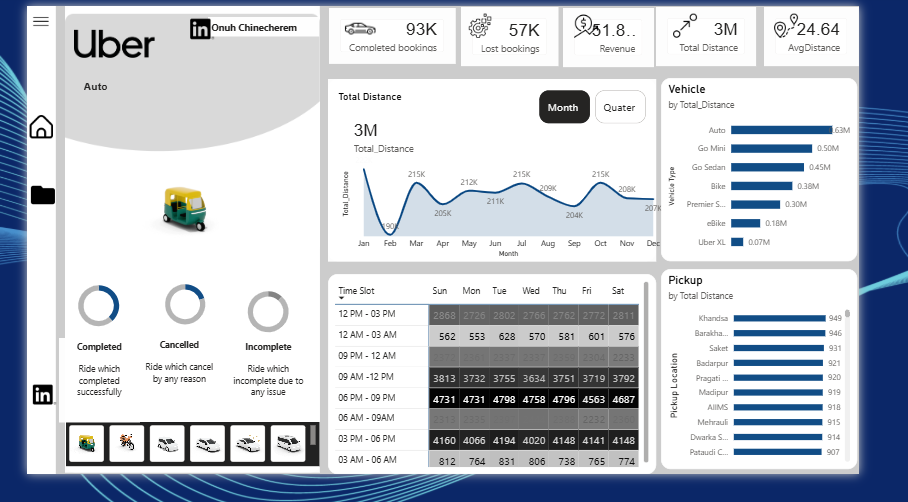

The dashboard page shown, as its layout file describes it:
{"tool":"powerbi","page":{"name":"Overview","canvas":[1280,720],"ordinal":1},"visuals":[{"type":"shape","box":[463.5,112,504.6,280.6],"z":0},{"type":"shape","box":[463.5,405.4,504.6,309],"z":1000},{"type":"shape","box":[59,0,392.3,717.9],"z":2000},{"type":"image","box":[58.6,0,391.9,391.9],"z":3000},{"type":"shape","box":[0,0,43.9,720],"z":4000},{"type":"cardVisual","fields":{"Data":["_Measure.Total_Distance"]},"box":[980,2.9,150,90],"z":5000},{"type":"lineChart","fields":{"Category":["Calendar.Month"],"Y":["_Measure.Completed_bookings"]},"box":[463.5,199.8,504.6,181.4],"z":6000},{"type":"cardVisual","fields":{"Data":["_Measure.Lost_bookings"]},"box":[667.1,1.4,150,91.4],"z":7000},{"type":"cardVisual","fields":{"Data":["_Measure.Booking_value"]},"box":[827.1,0,148.6,91.4],"z":8000},{"type":"cardVisual","fields":{"Data":["_Measure.Avg_Distance"]},"box":[1133.9,1.4,146,90.7],"z":9000},{"type":"advancedSlicerVisual","fields":{"Values":["Veh_IMG.Column1"]},"box":[60.3,639.7,389.7,67.9],"z":10000},{"type":"cardVisual","fields":{"Data":["Min(Veh_IMG.Column2)"]},"box":[51.8,47.3,486.8,322.3],"z":11000},{"type":"image","box":[72.9,27.1,124.3,61.4],"z":12000},{"type":"cardVisual","fields":{"Data":["Min(Veh_IMG.Column1)"]},"box":[58.6,81.4,221.4,84.3],"z":13000},{"type":"cardVisual","fields":{"Data":["_Measure.Complete_booking"]},"box":[464.3,2.9,194.3,90],"z":14000},{"type":"columnChart","fields":{"Category":["Calendar.Month"],"Y":["_Measure.Completed_bookings"]},"box":[463.5,524.4,504.6,182.8],"z":15000},{"type":"advancedSlicerVisual","fields":{"Values":["Date Axis 2.Date Axis"]},"box":[800,122.9,158.6,62.9],"z":16000},{"type":"advancedSlicerVisual","fields":{"Values":["Date Axis 2.Date Axis"]},"box":[796.5,420.9,163,55.3],"z":17000},{"type":"cardVisual","fields":{"Data":["_Measure.Complete_booking"]},"box":[472.9,124.3,194.3,102.9],"z":18000},{"type":"cardVisual","fields":{"Data":["_Measure.Booking_value"]},"box":[462.9,421.4,162.9,90],"z":19000},{"type":"clusteredBarChart","fields":{"Y":["_Measure.Booking_value"],"Category":["uber.Vehicle Type"]},"box":[975.1,112,301.9,280.6],"z":20000},{"type":"multiRowCard","fields":{"Values":["uber.Pickup Location","_Measure.Completed_bookings"]},"box":[975.1,405.4,141.7,106.3],"z":21000},{"type":"multiRowCard","fields":{"Values":["uber.Drop Location","_Measure.Completed_bookings"]},"box":[1131,405.4,146,106.3],"z":22000},{"type":"image","box":[1226,442.2,53.9,32.6],"z":23000},{"type":"image","box":[1082.8,440.8,39.7,35.4],"z":24000},{"type":"shape","box":[976.5,524.4,300.5,92.1],"z":25000},{"type":"shape","box":[979.4,623.6,300.5,90.7],"z":26000},{"type":"cardVisual","fields":{"Data":["Avg(uber.Customer Rating)"]},"box":[993.5,528.7,184.3,85],"z":27000},{"type":"cardVisual","fields":{"Data":["Avg(uber.Driver Ratings)"]},"box":[993.5,630.7,174.3,85],"z":28000},{"type":"image","box":[829.1,24.1,38.3,36.9],"z":29000},{"type":"donutChart","fields":{"Y":["_Measure.Booking_count","_Measure.Bookings_Remove_status_Filter"]},"box":[59,410.3,103.7,100.8],"z":30000},{"type":"donutChart","fields":{"Y":["_Measure.Booking_count","_Measure.Bookings_Remove_status_Filter"]},"box":[190.1,408.9,105.1,99.3],"z":31000},{"type":"donutChart","fields":{"Y":["_Measure.Booking_count","_Measure.Bookings_Remove_status_Filter"]},"box":[318.2,420.4,105.1,100.8],"z":32000},{"type":"textbox","box":[49,511.1,123.8,129.6],"z":33000},{"type":"textbox","box":[172.8,508.3,123.8,109.4],"z":34000},{"type":"textbox","box":[309.6,511.1,123.8,120.9],"z":35000},{"type":"image","box":[993.5,10.1,37.4,38.9],"z":36000},{"type":"image","box":[1149,10.1,37.4,38.9],"z":37000},{"type":"image","box":[486.7,10.1,53.3,47.5],"z":38000},{"type":"image","box":[678.2,10.1,37.4,38.9],"z":39000},{"type":"image","box":[0,8.6,44.6,30.2],"z":40000},{"type":"textbox","box":[278.6,17.1,155.7,31.4],"z":41000},{"type":"image","box":[242.4,17,52.4,36.9],"z":42000},{"type":"image","box":[0,167,44.6,36],"z":43000},{"type":"image","box":[0,272.1,49,37.4],"z":44000},{"type":"image","box":[0,580.2,53.3,36],"z":45000}]}

Visuals, with their boxes on the page's 1280x720 design canvas (x1, y1, x2, y2). These are canvas units, not pixel positions in the 908x502 screenshot, which may show the page scaled, cropped or inside an application window:
shape: 464, 112, 968, 393
shape: 464, 405, 968, 714
shape: 59, 0, 451, 718
image: 59, 0, 450, 392
shape: 0, 0, 44, 720
cardVisual - _Measure.Total_Distance: 980, 3, 1130, 93
lineChart - Calendar.Month x _Measure.Completed_bookings: 464, 200, 968, 381
cardVisual - _Measure.Lost_bookings: 667, 1, 817, 93
cardVisual - _Measure.Booking_value: 827, 0, 976, 91
cardVisual - _Measure.Avg_Distance: 1134, 1, 1280, 92
advancedSlicerVisual - Veh_IMG.Column1: 60, 640, 450, 708
cardVisual - Min(Veh_IMG.Column2): 52, 47, 539, 370
image: 73, 27, 197, 88
cardVisual - Min(Veh_IMG.Column1): 59, 81, 280, 166
cardVisual - _Measure.Complete_booking: 464, 3, 659, 93
columnChart - Calendar.Month x _Measure.Completed_bookings: 464, 524, 968, 707
advancedSlicerVisual - Date Axis 2.Date Axis: 800, 123, 959, 186
advancedSlicerVisual - Date Axis 2.Date Axis: 796, 421, 960, 476
cardVisual - _Measure.Complete_booking: 473, 124, 667, 227
cardVisual - _Measure.Booking_value: 463, 421, 626, 511
clusteredBarChart - _Measure.Booking_value x uber.Vehicle Type: 975, 112, 1277, 393
multiRowCard - uber.Pickup Location x _Measure.Completed_bookings: 975, 405, 1117, 512
multiRowCard - uber.Drop Location x _Measure.Completed_bookings: 1131, 405, 1277, 512
image: 1226, 442, 1280, 475
image: 1083, 441, 1122, 476
shape: 976, 524, 1277, 616
shape: 979, 624, 1280, 714
cardVisual - Avg(uber.Customer Rating): 994, 529, 1178, 614
cardVisual - Avg(uber.Driver Ratings): 994, 631, 1168, 716
image: 829, 24, 867, 61
donutChart - _Measure.Booking_count x _Measure.Bookings_Remove_status_Filter: 59, 410, 163, 511
donutChart - _Measure.Booking_count x _Measure.Bookings_Remove_status_Filter: 190, 409, 295, 508
donutChart - _Measure.Booking_count x _Measure.Bookings_Remove_status_Filter: 318, 420, 423, 521
textbox: 49, 511, 173, 641
textbox: 173, 508, 297, 618
textbox: 310, 511, 433, 632
image: 994, 10, 1031, 49
image: 1149, 10, 1186, 49
image: 487, 10, 540, 58
image: 678, 10, 716, 49
image: 0, 9, 45, 39
textbox: 279, 17, 434, 48
image: 242, 17, 295, 54
image: 0, 167, 45, 203
image: 0, 272, 49, 310
image: 0, 580, 53, 616
